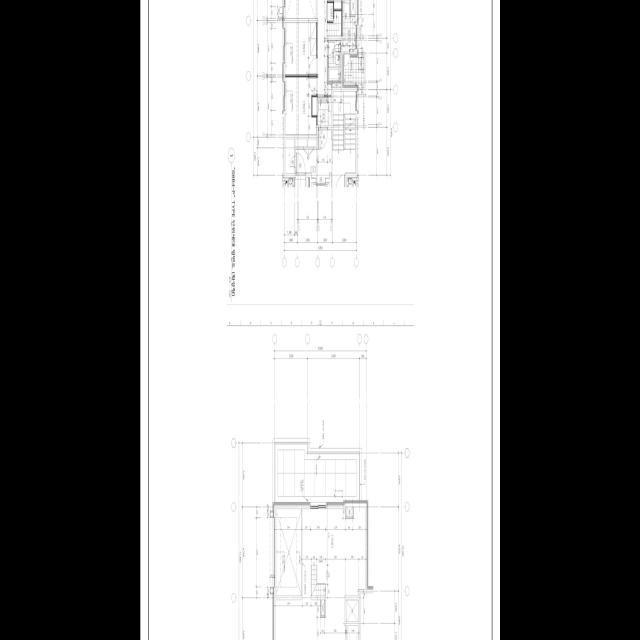background: (140, 0, 500, 640)
space_balconi: (277, 450, 356, 497), (343, 54, 364, 88), (342, 3, 355, 52)
space_bedroom: (285, 77, 316, 135), (285, 23, 316, 75)
space_front: (317, 97, 331, 127), (312, 97, 317, 115)
space_living_room: (285, 0, 331, 95), (327, 3, 333, 21)
space_other: (302, 507, 365, 600), (275, 600, 345, 640), (275, 509, 301, 596), (318, 130, 332, 173), (346, 600, 358, 622), (350, 0, 355, 14), (346, 507, 352, 517), (321, 600, 324, 615), (332, 83, 341, 88)
space_staircase: (333, 92, 355, 173), (311, 565, 325, 596), (327, 11, 341, 36)
space_toilet: (328, 41, 341, 81)
